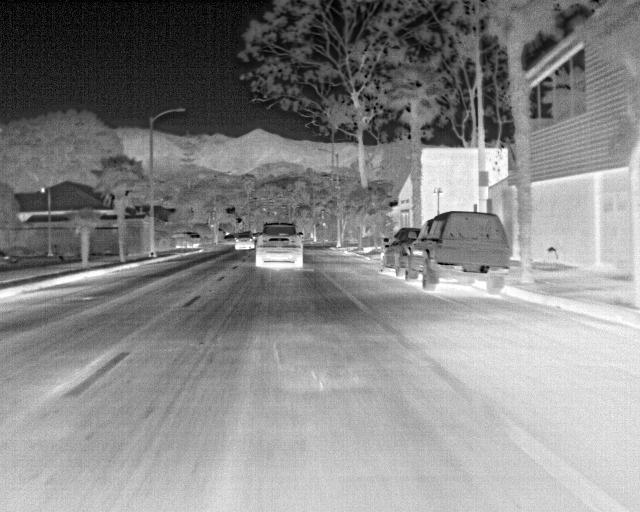bicycle: (402, 209, 512, 291), (255, 221, 303, 266), (379, 228, 421, 276), (233, 230, 255, 251)
